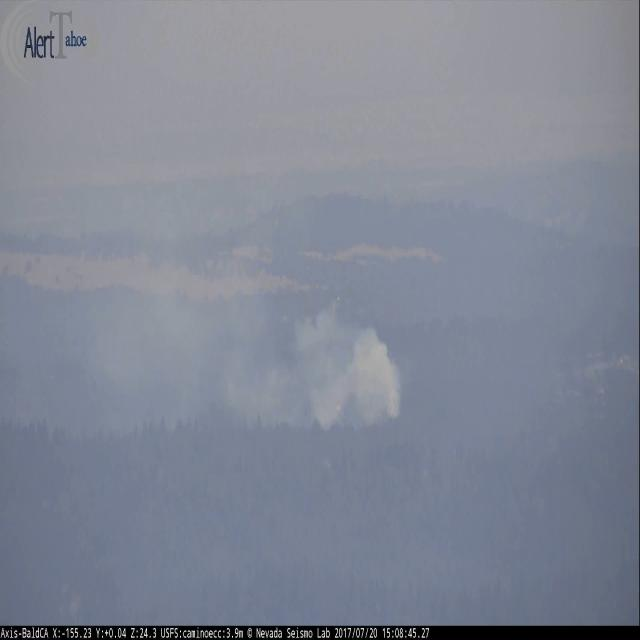smoke: (112, 254, 403, 423)
